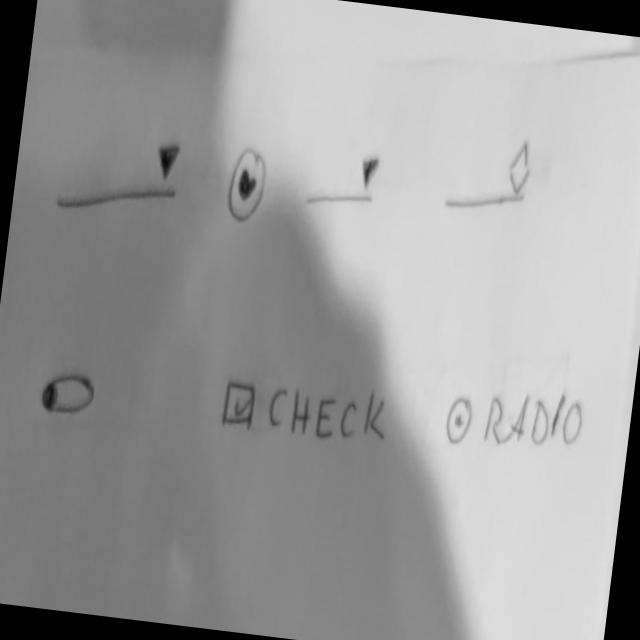checkbox: (219, 368, 393, 450)
icon-button: (222, 142, 271, 230)
number-input: (437, 126, 535, 225)
radio: (442, 376, 588, 464)
select: (51, 122, 186, 227), (301, 146, 382, 220)
toggle: (36, 364, 98, 424)
